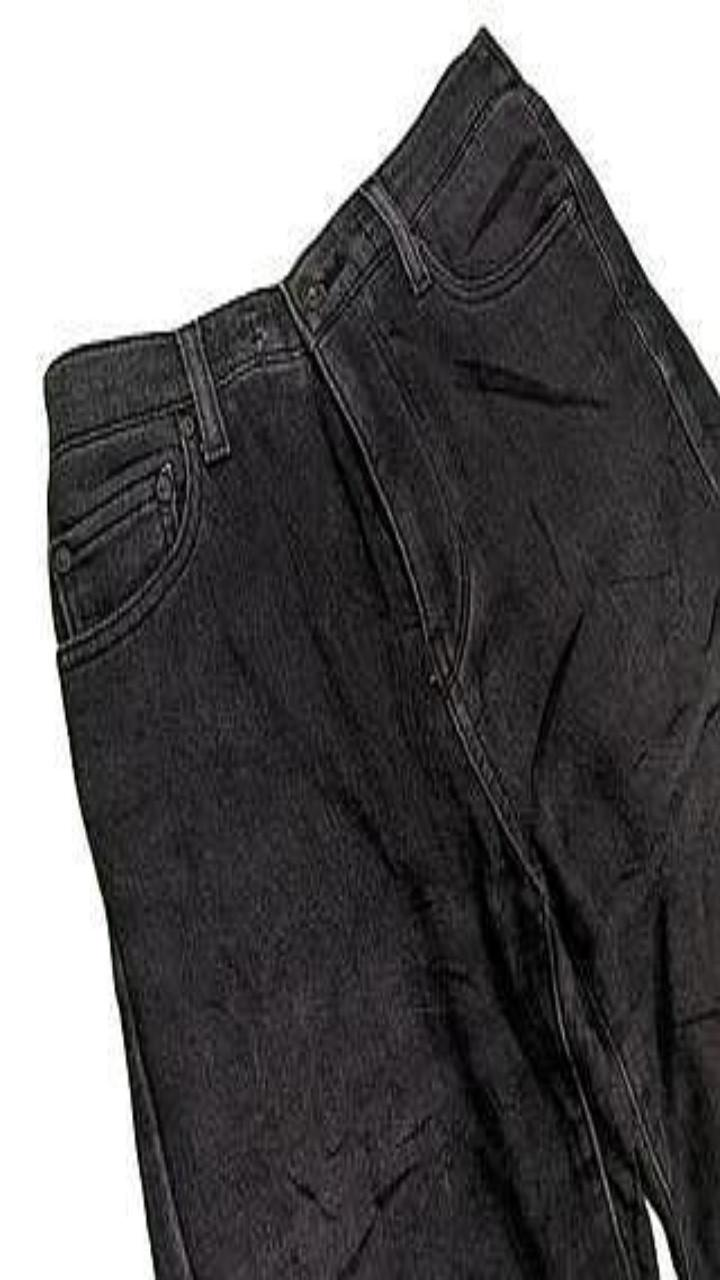Jeans: (46, 32, 719, 1279)
